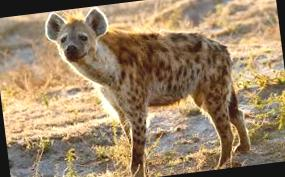hyenas: (0, 0, 259, 177)
